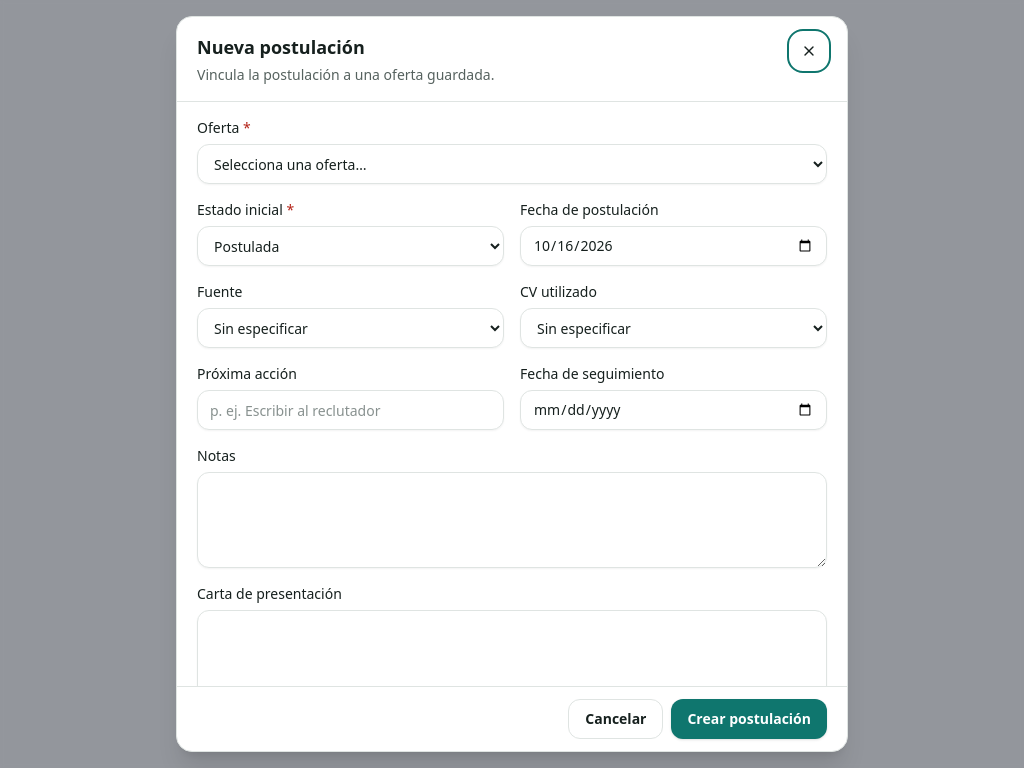
Scenario: creating an application › does not send an application date for offers not applied to yet
The width and height of the screenshot is (1024, 768).
Select "Backend Developer — Acme" in the dropdown labelled "Oferta *" at (512, 164), box 197,144 -> 827,184
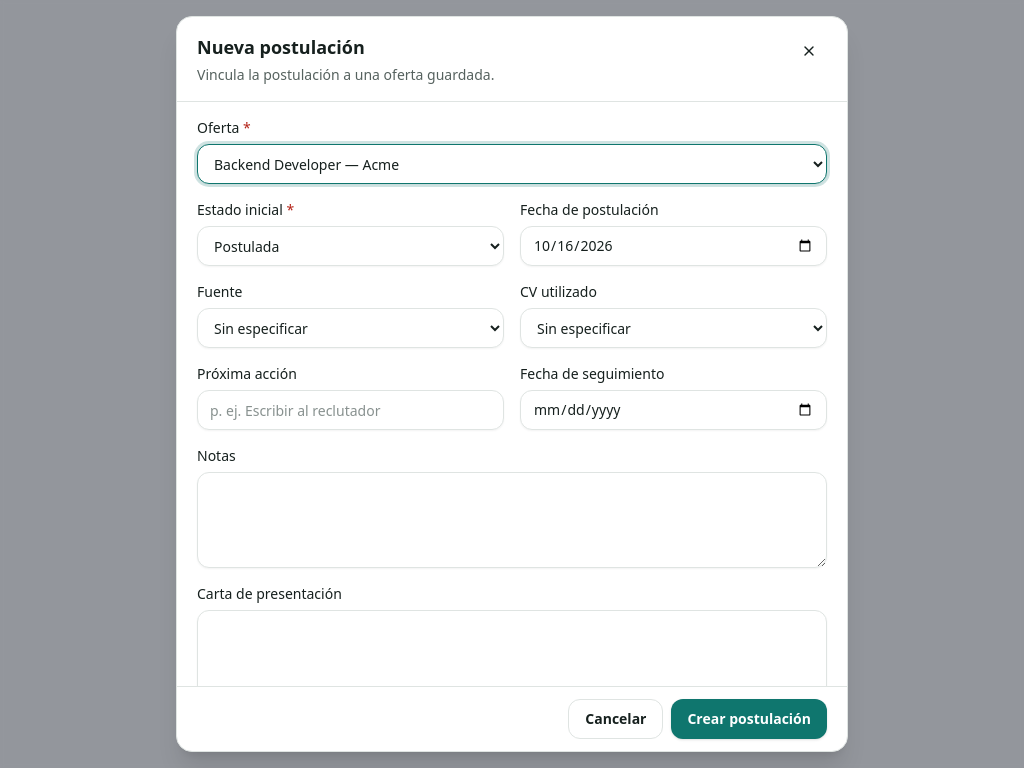
Select "Por postular" in the dropdown labelled "Estado inicial *" at (350, 246), box 197,226 -> 504,266
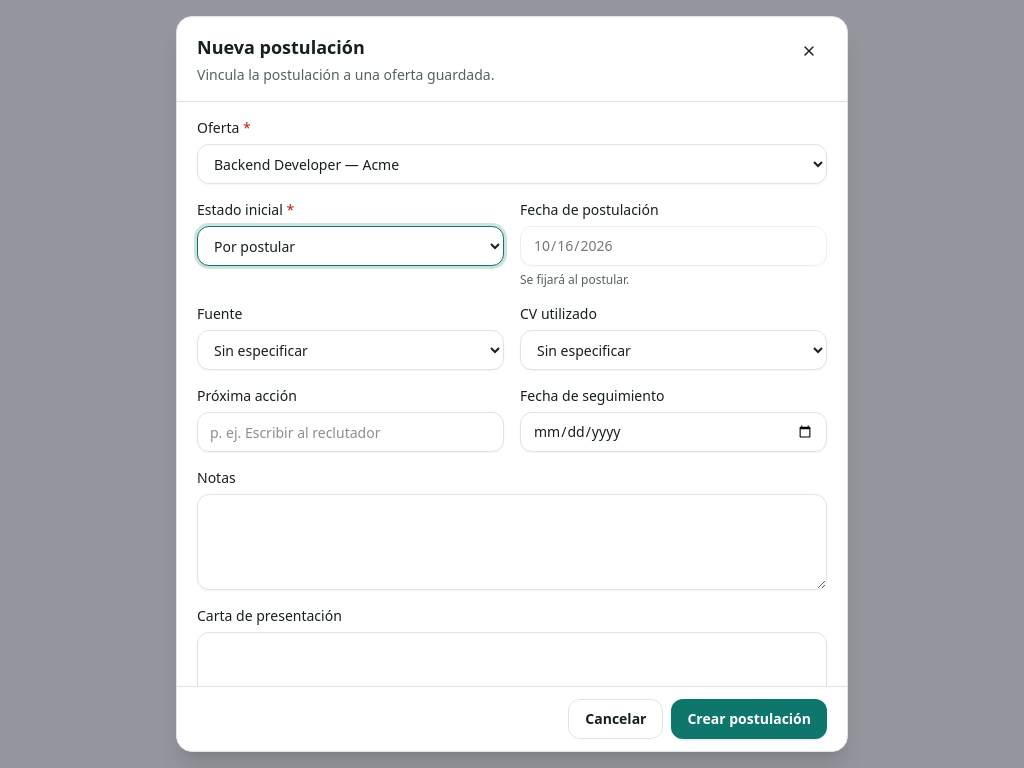
Check: the date field labelled "Fecha de postulación" is disabled, box 520,226 -> 827,266
Click the button "Crear postulación".
click(749, 719)  # box 672,699 -> 827,739
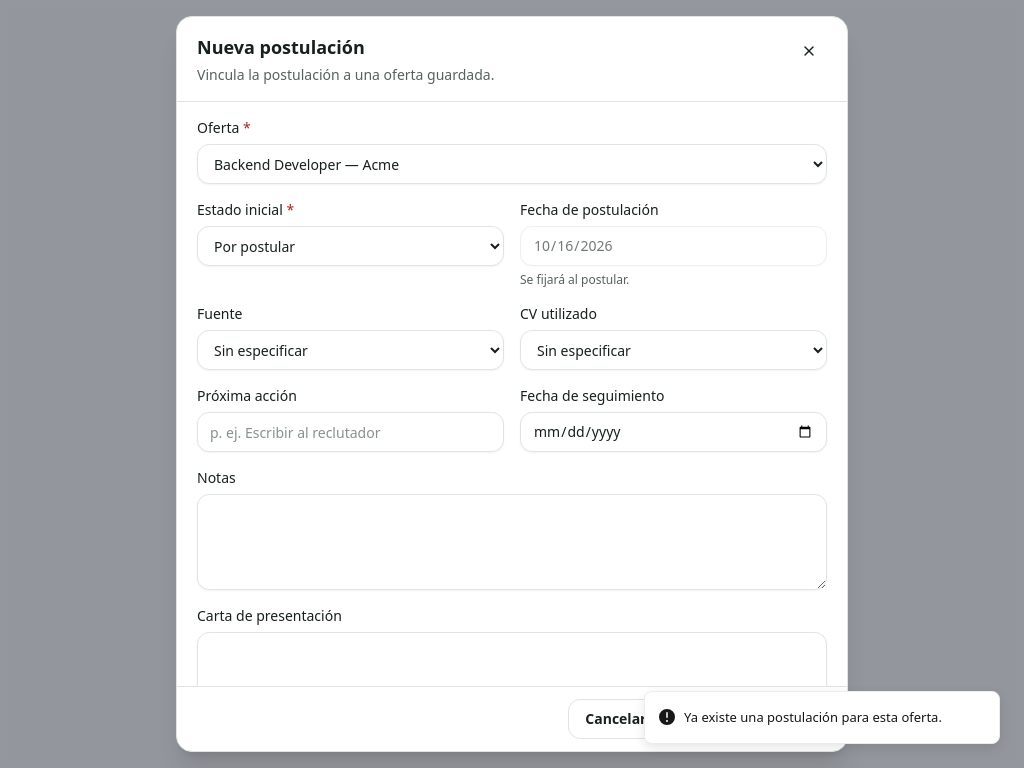
Check: the text "Ya existe una postulación para esta oferta." is shown, box 684,708 -> 942,727
